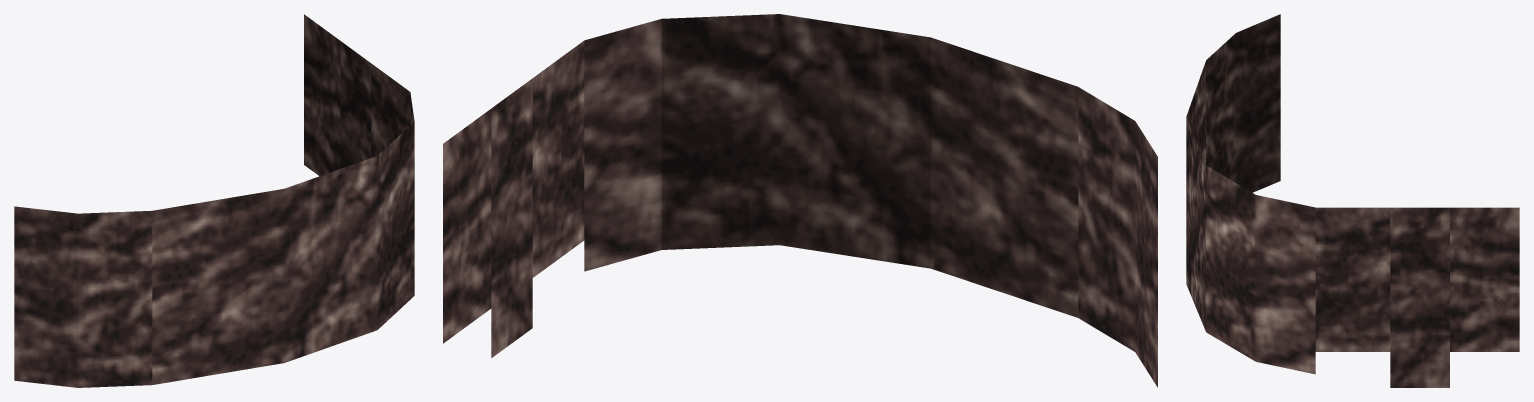
File: WALCAV01_1.obj
3 views of the same model, side by side, from view 1: azimuth 30°, elevation 25°; view 2: azimuth 150°, elevation 25°; view 3: azimuth 270°, elevation 25° (orthographic). The views are drawn at different scales.
Parts seen in each view (by area): view 1: WALCAV01.1; view 2: WALCAV01.1; view 3: WALCAV01.1.
Part boxes in pixels (x1=…): WALCAV01.1: x1=14, y1=14, x2=414, y2=387; WALCAV01.1: x1=443, y1=14, x2=1157, y2=387; WALCAV01.1: x1=1186, y1=14, x2=1519, y2=387.
Bounding box in the file's own units: 1472 × 640 × 1072.
